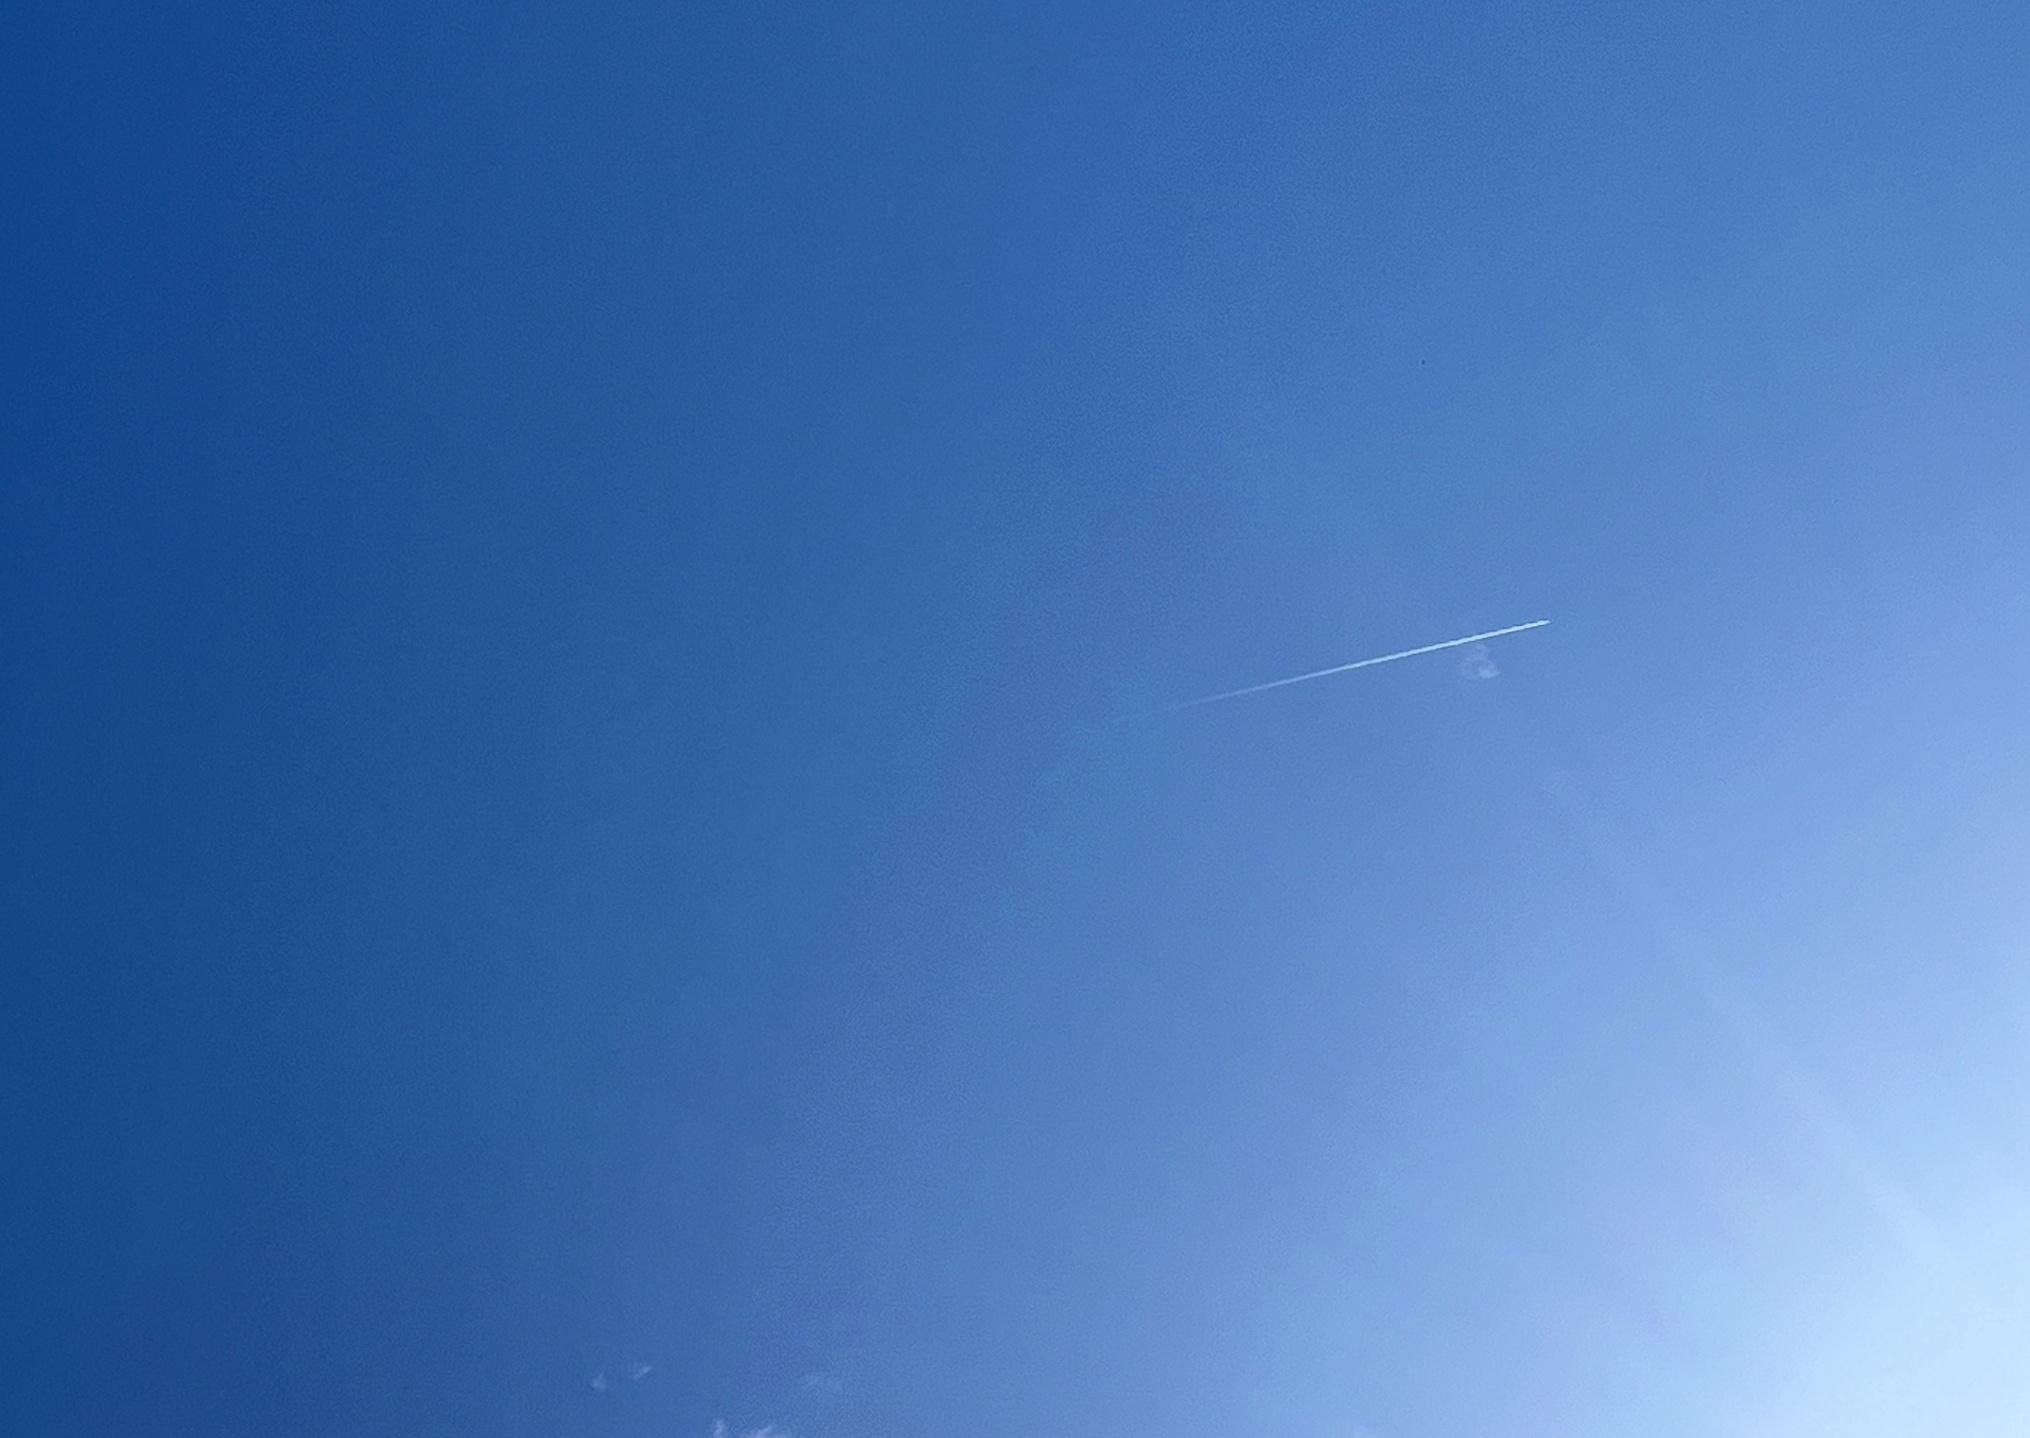Plane: (1157, 605, 1568, 721)
